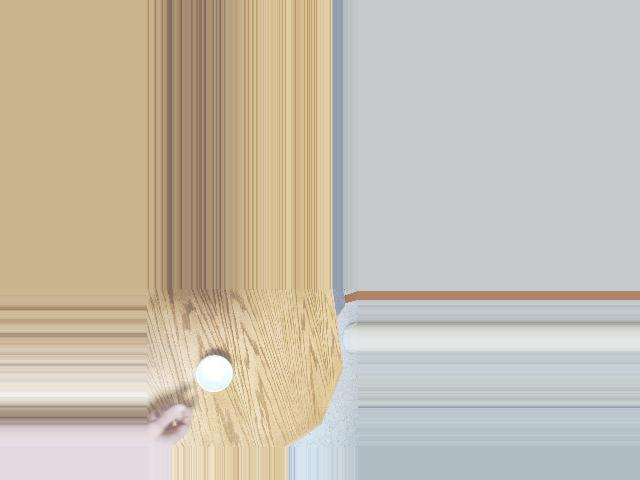cotage: (189, 355, 237, 396)
